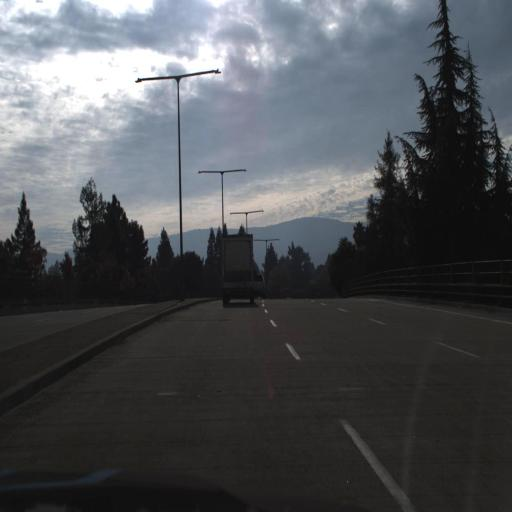car: (254, 271, 268, 297)
truck: (220, 233, 253, 308)
